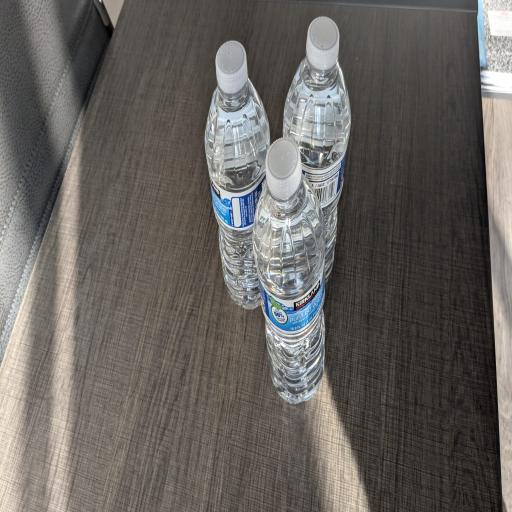waterbottle: (254, 139, 325, 403), (284, 18, 350, 279), (205, 42, 269, 308)
